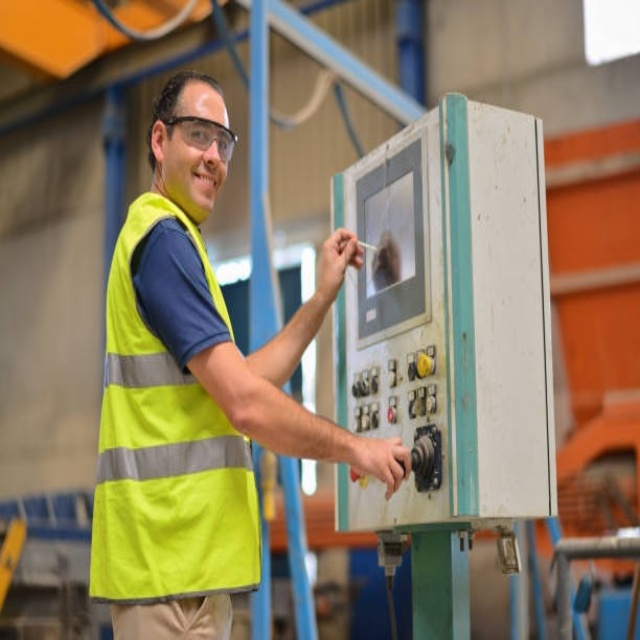Gafas: (164, 115, 238, 163)
Sin_guantes: (359, 429, 412, 495), (315, 223, 359, 288)
Sin_mascara: (187, 160, 221, 211)
